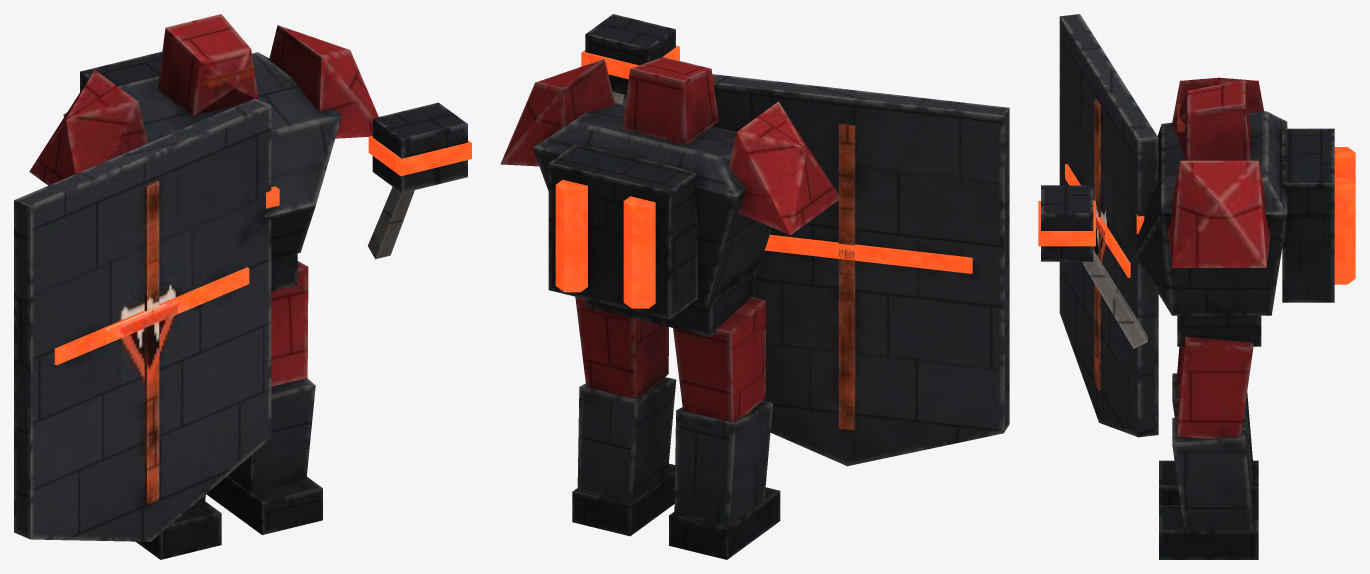
Rendered from u_sentinel2_e.glb.
The picture shows the model from 3 angles, left to right: view 1: azimuth 30°, elevation 25°; view 2: azimuth 150°, elevation 25°; view 3: azimuth 270°, elevation 25°; orthographic projection. The views are drawn at different scales.
Parts seen in each view (by area): view 1: u_sentinel2_e; view 2: u_sentinel2_e; view 3: u_sentinel2_e.
Boxes of the visible parts, box(x1,y1,x2,y2) form: u_sentinel2_e: box(14, 14, 471, 559); u_sentinel2_e: box(500, 14, 1009, 559); u_sentinel2_e: box(1038, 14, 1355, 559).
Size of the model in its own units: 2.11 by 2.24 by 1.49.
Materials: 1 (1 with a texture image).
